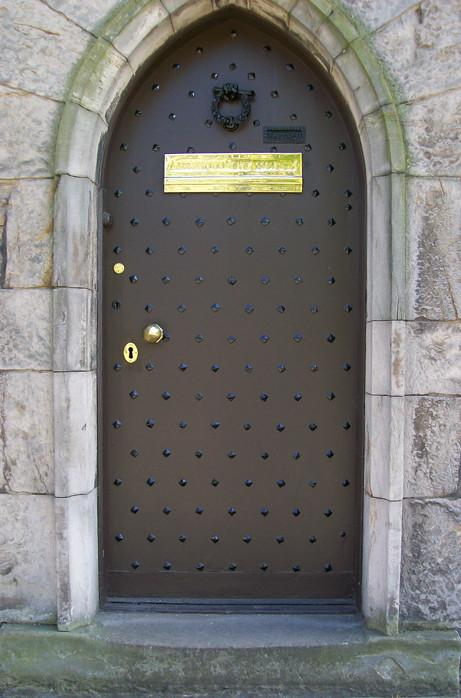door: (96, 5, 368, 615)
